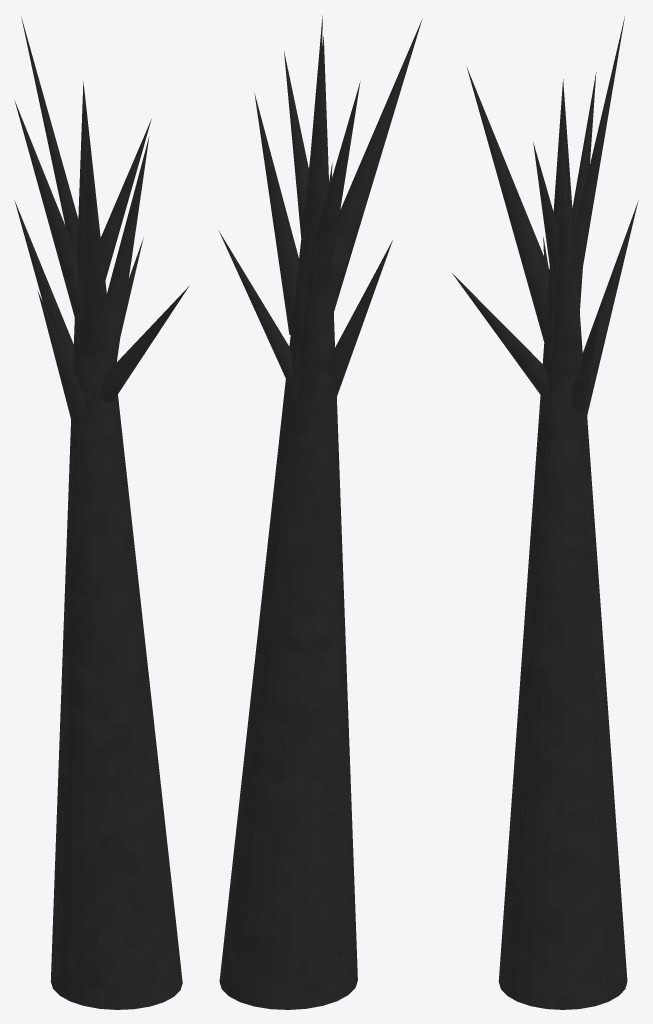
The model's file is IronSpike.glb.
The picture shows the model from 3 angles, left to right: view 1: azimuth 30°, elevation 25°; view 2: azimuth 150°, elevation 25°; view 3: azimuth 270°, elevation 25°; orthographic projection. The views are drawn at different scales.
Visible parts, largest first — view 1: Cone; view 2: Cone; view 3: Cone.
Boxes of the visible parts, x1,y1,x2,y2 form: Cone: (14, 17, 188, 1009); Cone: (218, 15, 422, 1009); Cone: (452, 16, 638, 1009).
Size of the model in its own units: 4.07 by 25.51 by 4.62.
1 material, 1 textured.
